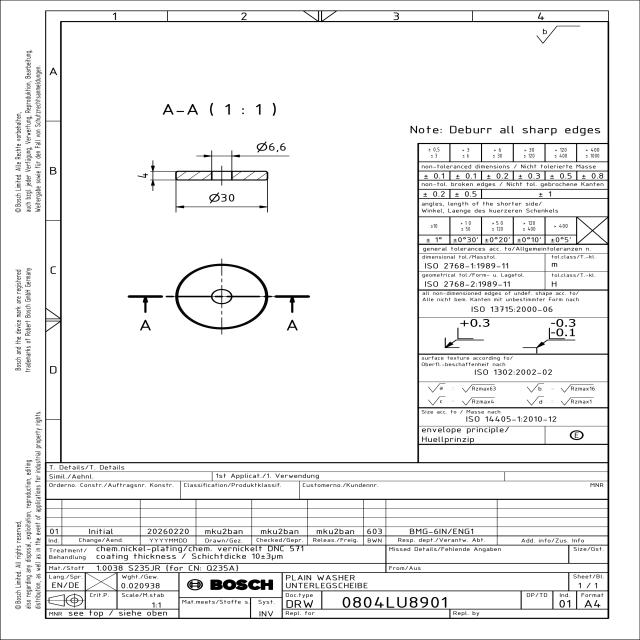dimension: (254, 140, 288, 153), (208, 192, 237, 204), (137, 172, 150, 179)
